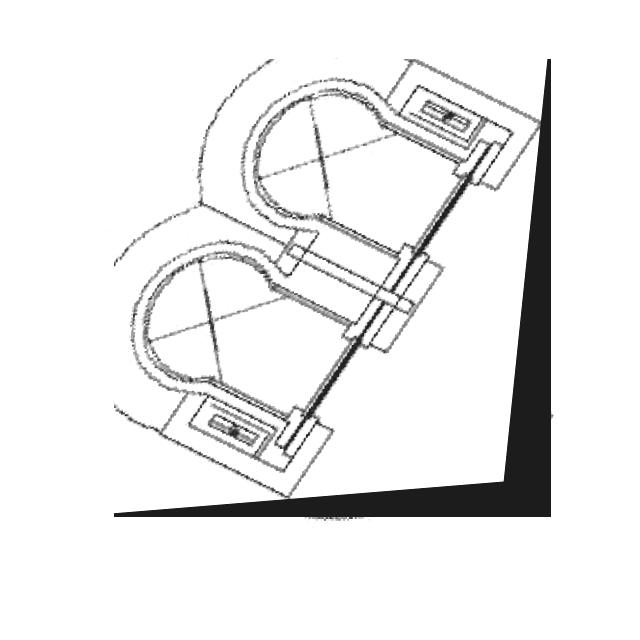lift: (114, 59, 551, 517)
